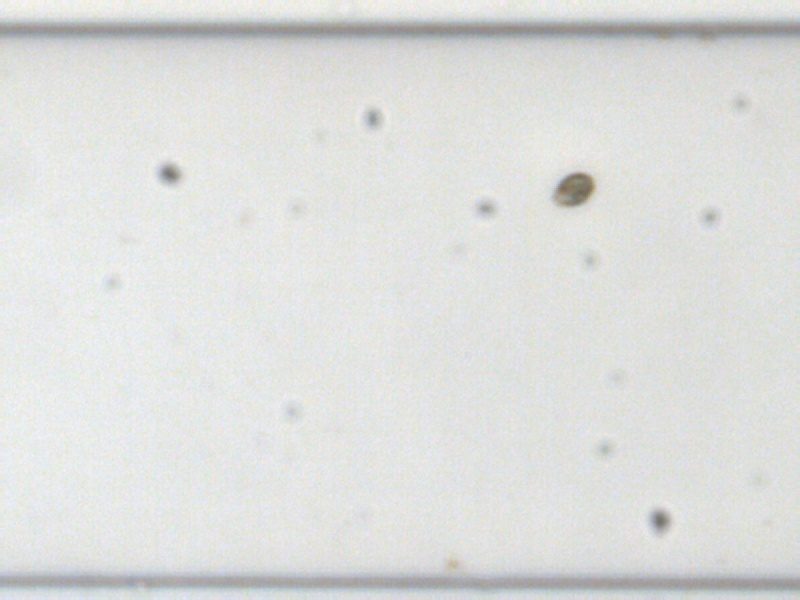Chlorella: (445, 556, 462, 570)
Dunaliella salina: (549, 168, 595, 209)
